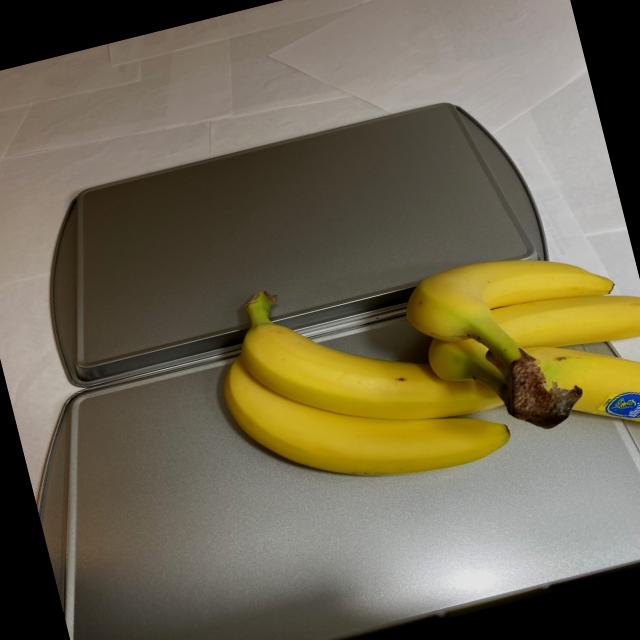banana: (196, 197, 640, 553)
